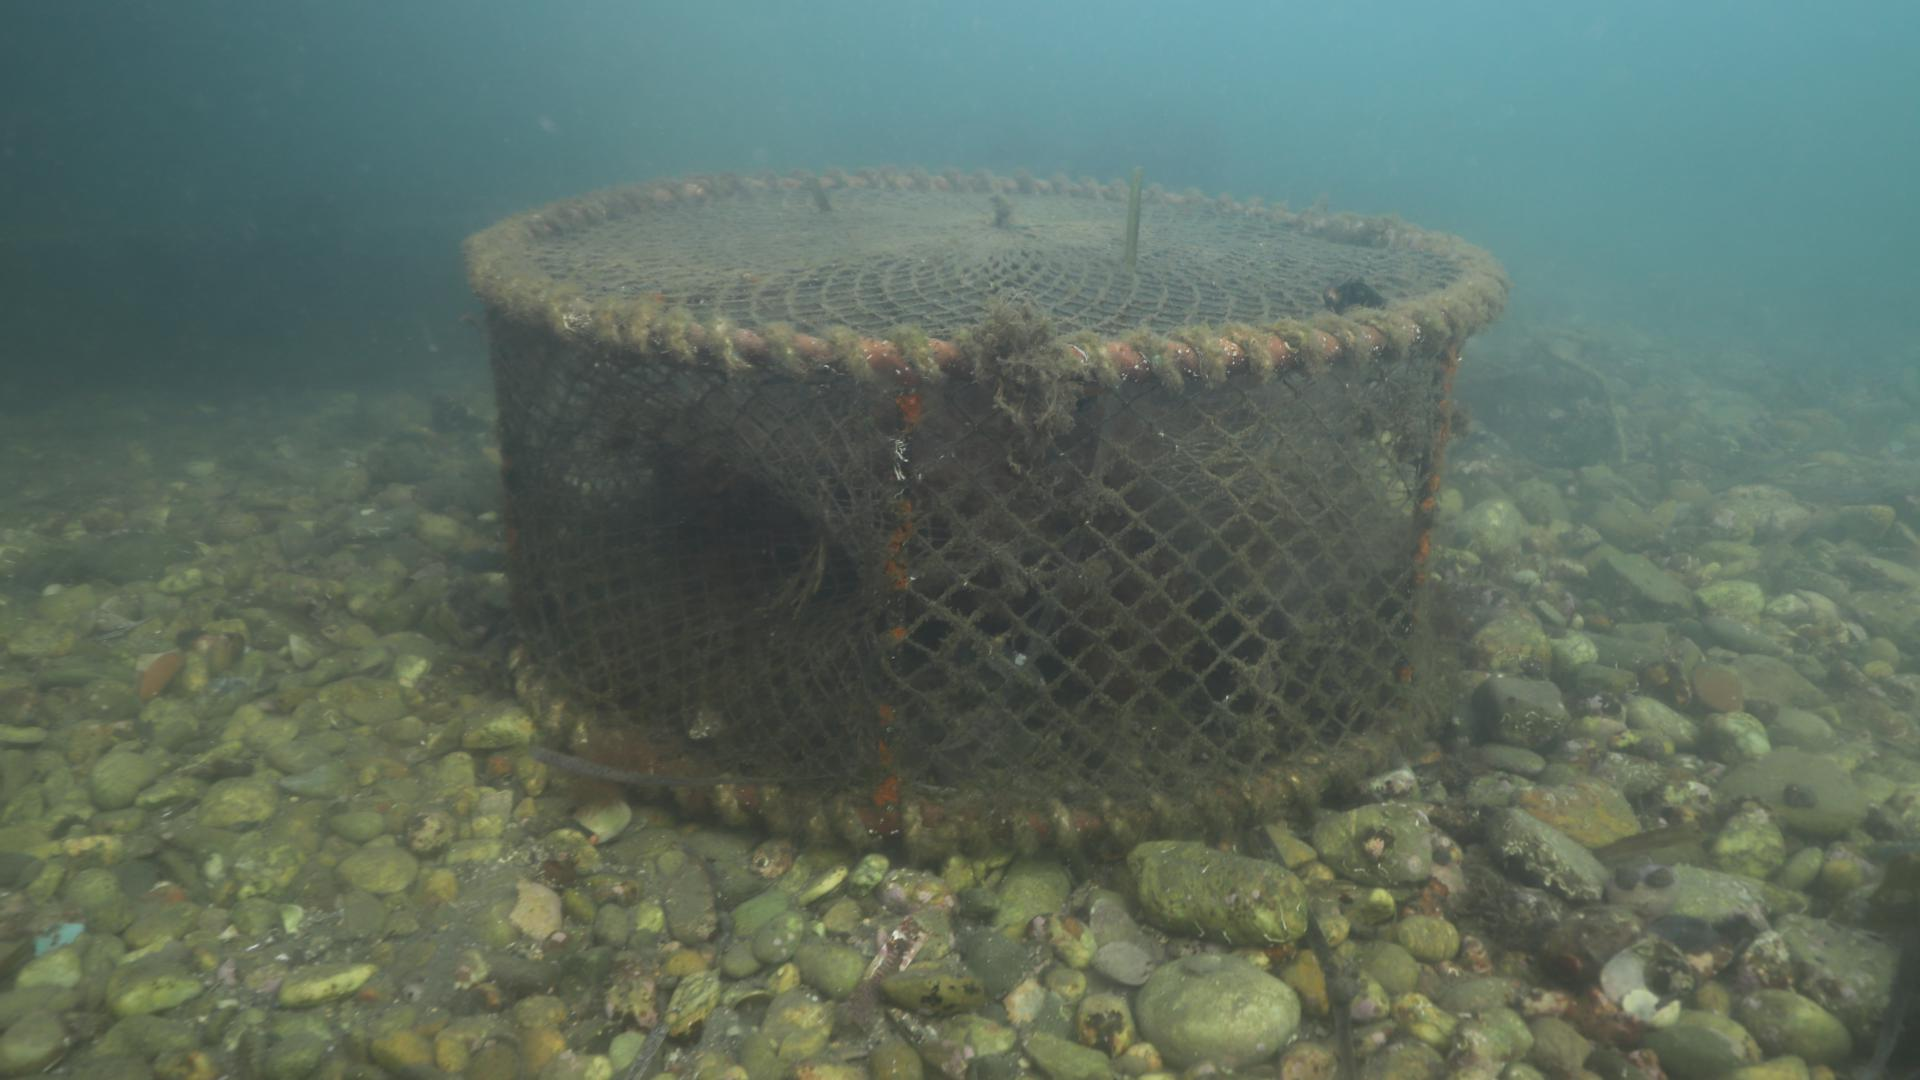circular fish trap: (459, 166, 1514, 862)
